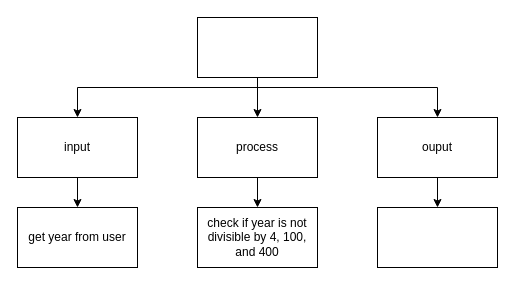
Some shapes in this 515 by 285 pixel diagram are drawn without their labels. The shapes that lost their labels are listed below. From the top down, each one's centre as x and y in pixels, then its label:
[257,47]: leap year program
[437,237]: show answer
